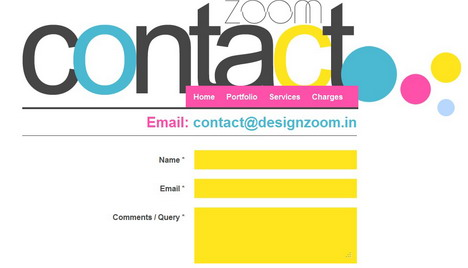_form_: (1, 1, 416, 268)
field: (192, 205, 358, 263), (193, 177, 357, 199), (194, 149, 358, 170)
field_with_label: (112, 203, 361, 265), (160, 176, 358, 200), (159, 148, 359, 171)
